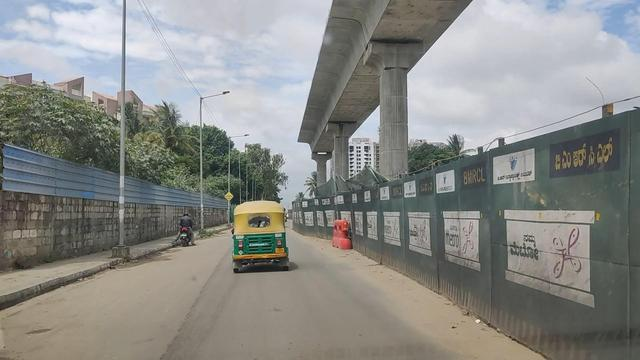LMV: (224, 197, 291, 279)
